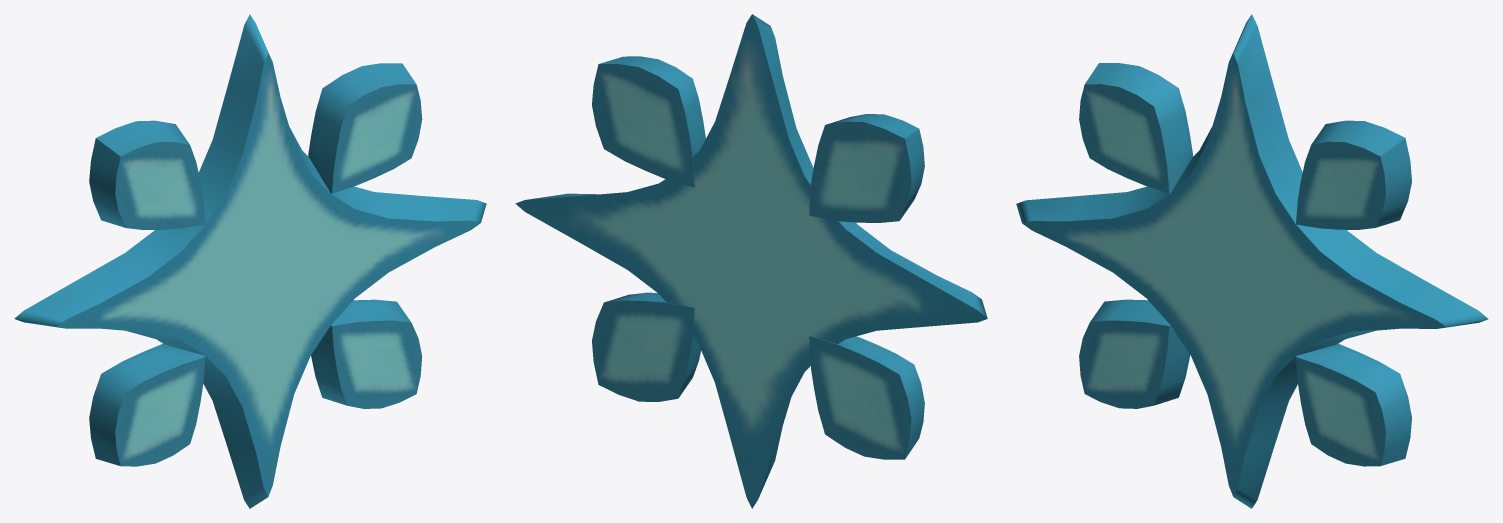
File: Homeworld_Ani_Interior_Md_Walldecoration_Prop_MechanicalDrawing_01_11_Vo.fbx
The picture shows the model from 3 angles, left to right: view 1: azimuth 30°, elevation 25°; view 2: azimuth 150°, elevation 25°; view 3: azimuth 330°, elevation 25°; orthographic projection.
Parts seen in each view (by area): view 1: Homeworld_Ani_Interior_Md_Walldecoration_Prop_MechanicalDraw; view 2: Homeworld_Ani_Interior_Md_Walldecoration_Prop_MechanicalDraw; view 3: Homeworld_Ani_Interior_Md_Walldecoration_Prop_MechanicalDraw.
Boxes of the visible parts, x1,y1,x2,y2 form: Homeworld_Ani_Interior_Md_Walldecoration_Prop_MechanicalDraw: (14, 14, 486, 508); Homeworld_Ani_Interior_Md_Walldecoration_Prop_MechanicalDraw: (515, 14, 987, 508); Homeworld_Ani_Interior_Md_Walldecoration_Prop_MechanicalDraw: (1016, 14, 1488, 508).
Bounding box in the file's own units: 0.0949 × 0.095 × 0.00687.
